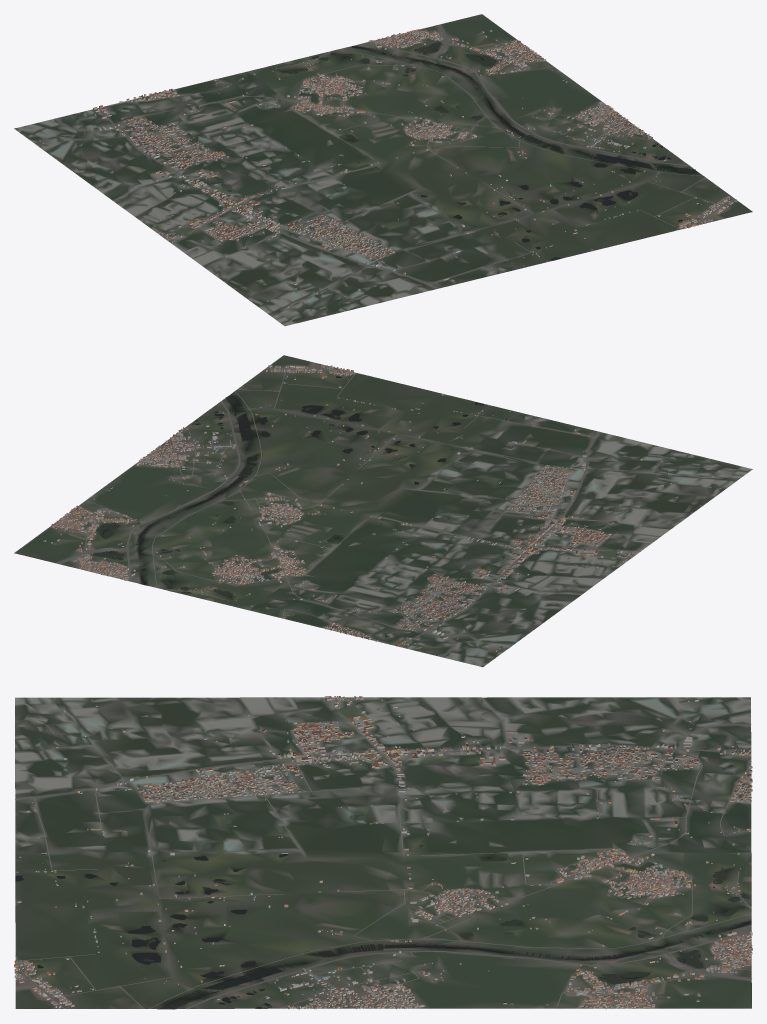
3 views of the same model, one above another, from view 1: azimuth 30°, elevation 25°; view 2: azimuth 150°, elevation 25°; view 3: azimuth 270°, elevation 25° (orthographic). The views are drawn at different scales.
Visible parts, largest first — view 1: ground, buildings, roads, water; view 2: ground, buildings, roads, water; view 3: ground, buildings, roads, water.
Part boxes in pixels (left/top/right/bottom): ground: left=14, top=14, right=752, bottom=326; buildings: left=39, top=29, right=736, bottom=307; roads: left=55, top=24, right=734, bottom=307; water: left=123, top=42, right=695, bottom=316; ground: left=14, top=355, right=752, bottom=667; buildings: left=43, top=364, right=721, bottom=651; roads: left=57, top=365, right=699, bottom=657; water: left=93, top=376, right=715, bottom=637; ground: left=15, top=697, right=751, bottom=1009; buildings: left=14, top=696, right=752, bottom=1009; roads: left=15, top=697, right=751, bottom=1009; water: left=15, top=720, right=751, bottom=1009.
Size of the model in its own units: 2814 by 26.97 by 2814.
